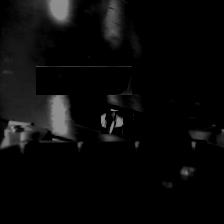Door Handle: (53, 50, 116, 112)
Lock: (101, 110, 124, 134)
